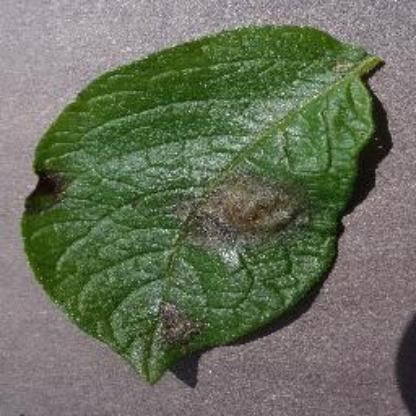Late-Blight: (23, 24, 380, 388)
